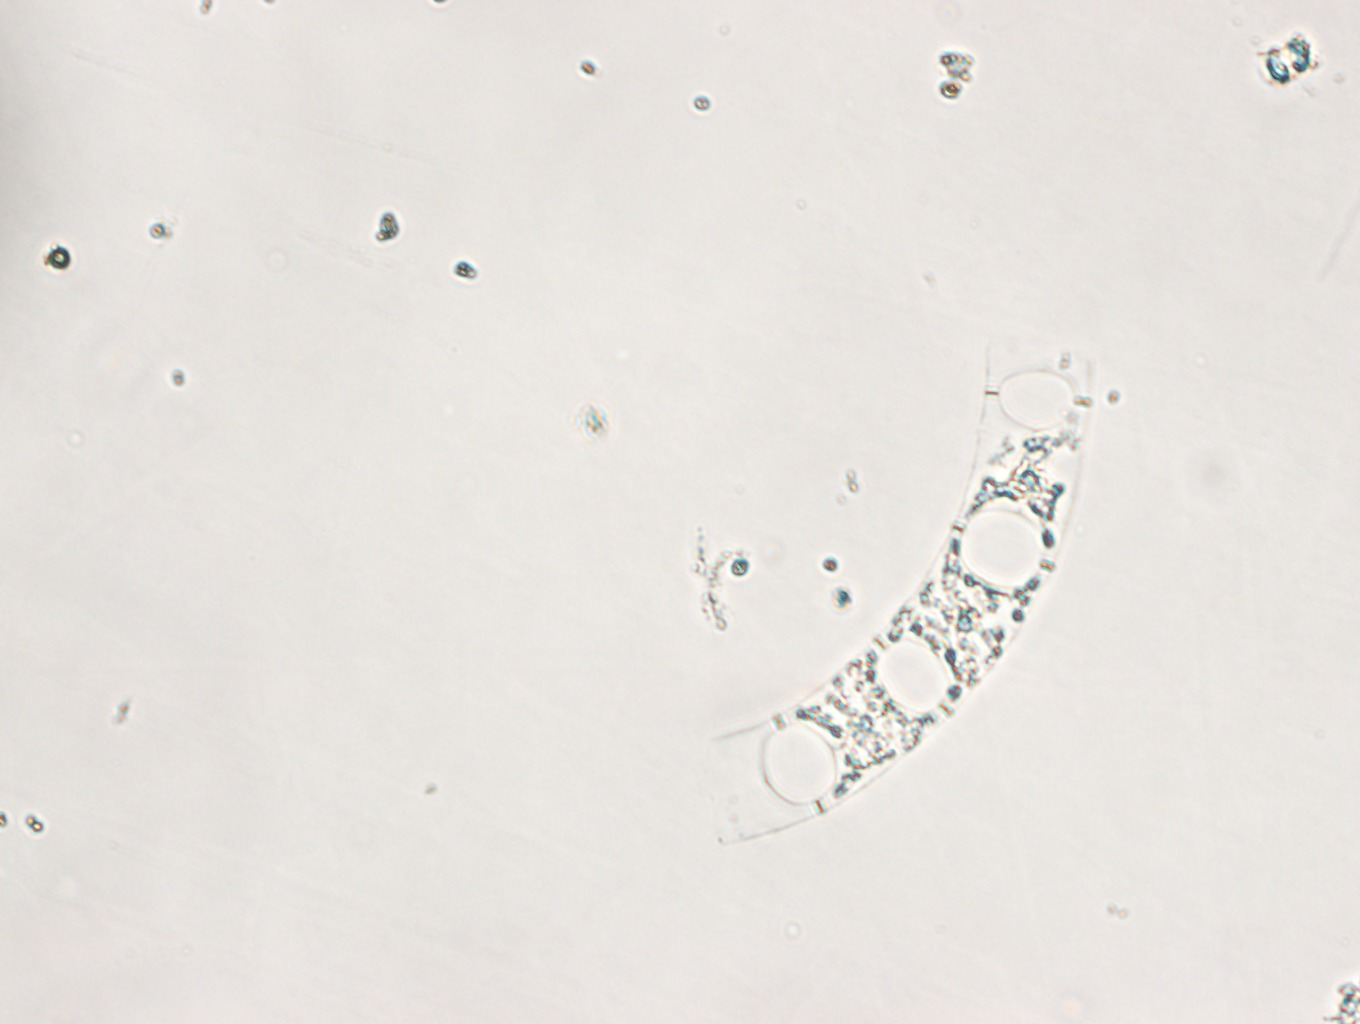eucampia: (708, 345, 1097, 865)
